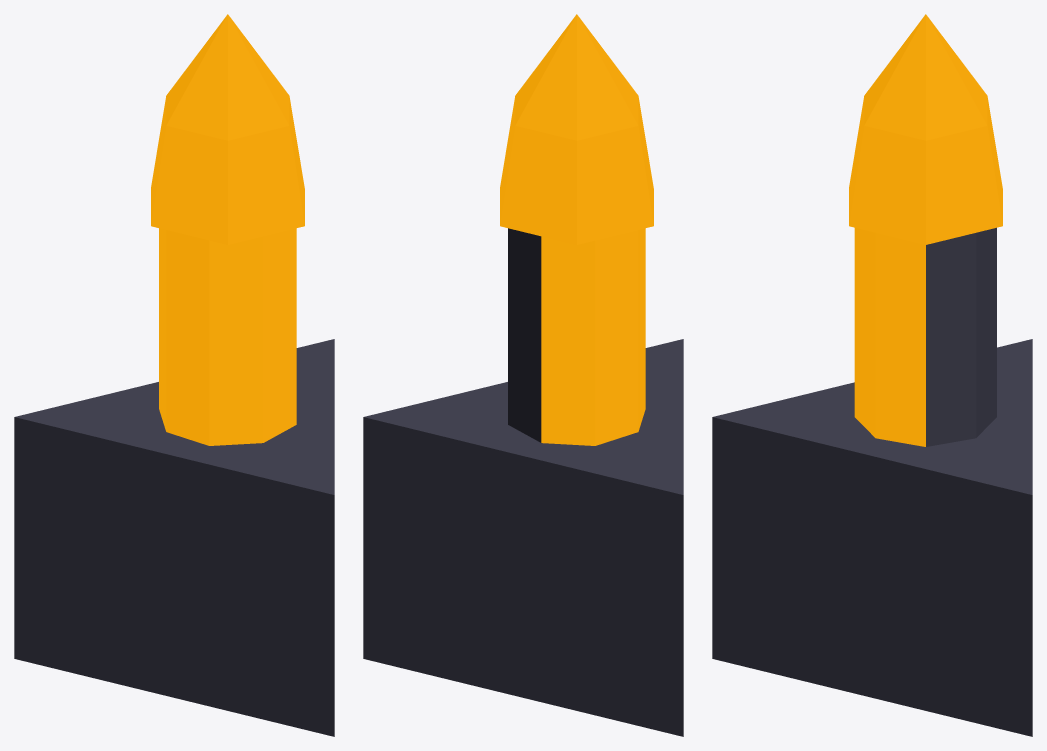
The model's file is prop_power_node.glb.
3 views of the same model, side by side, from view 1: azimuth 30°, elevation 25°; view 2: azimuth 150°, elevation 25°; view 3: azimuth 270°, elevation 25° (orthographic).
Parts seen in each view (by area): view 1: prop_power_node; view 2: prop_power_node; view 3: prop_power_node.
Part boxes in pixels (x1,y1,x2,y2): prop_power_node: (14,14,334,736); prop_power_node: (363,14,683,736); prop_power_node: (712,14,1032,736).
Size of the model in its own units: 2.08 by 4 by 1.8.
